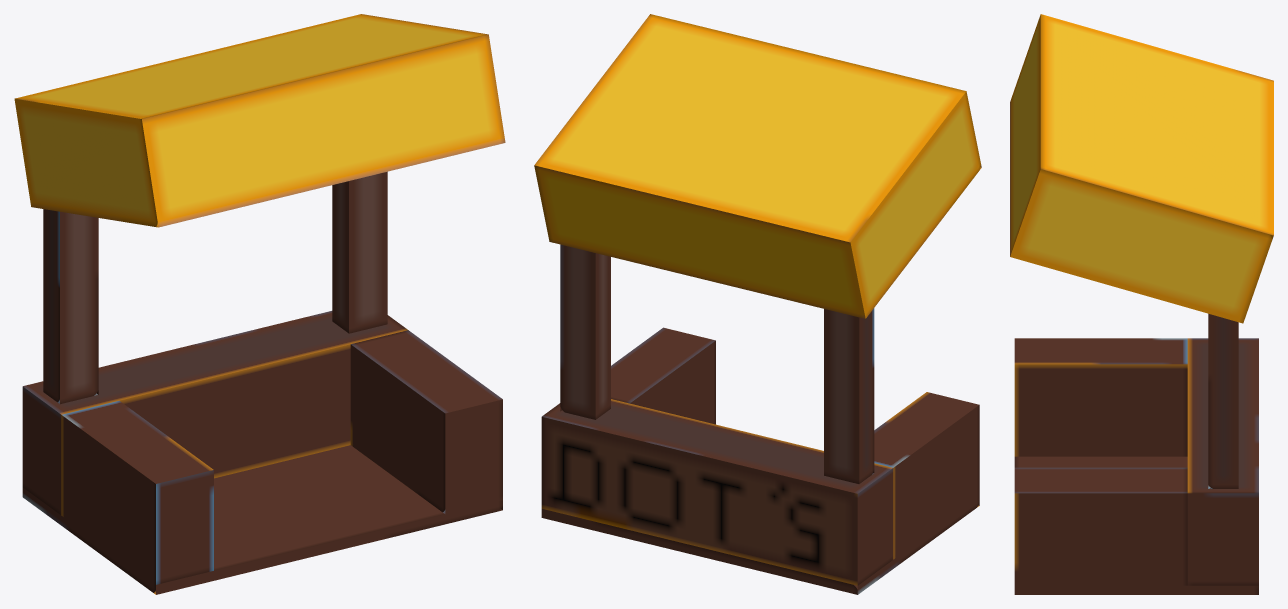
Rendered from dots.obj.
3 renders of one model, left to right at view 1: azimuth 30°, elevation 25°; view 2: azimuth 150°, elevation 25°; view 3: azimuth 270°, elevation 25°, orthographic. The views are drawn at different scales.
Parts seen in each view (by area): view 1: cube; view 2: cube; view 3: cube.
Boxes of the visible parts, box(x1,y1,x2,y2) form: cube: box(14, 14, 505, 594); cube: box(534, 14, 981, 594); cube: box(1010, 14, 1273, 594).
Bounding box in the file's own units: 2.25 × 2.88 × 1.62.
Materials: 1 (1 with a texture image).
